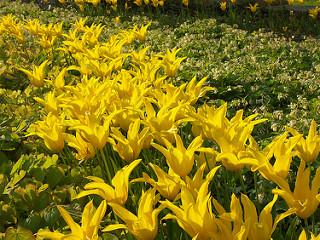tulip: (104, 187, 166, 240), (269, 167, 320, 218), (151, 132, 205, 177), (25, 113, 68, 152), (111, 118, 149, 160), (18, 60, 50, 86)
